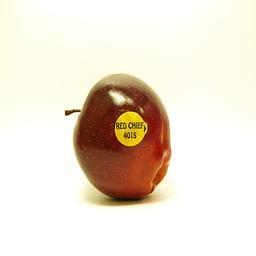apple: (66, 73, 172, 200)
